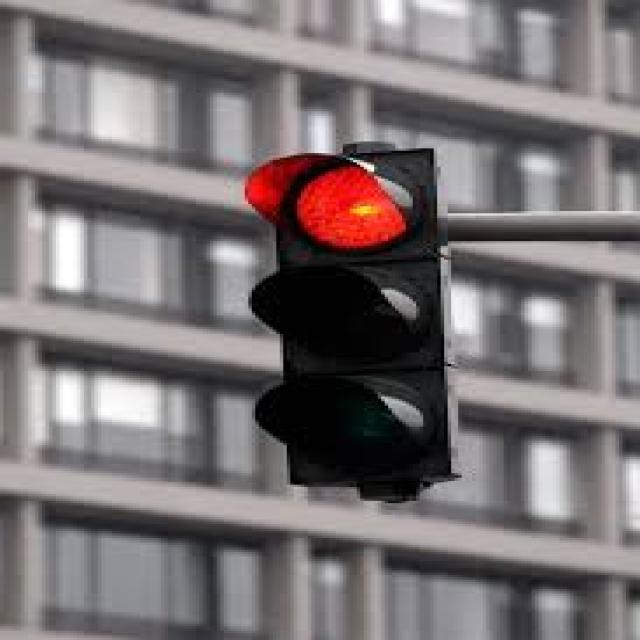red: (222, 146, 458, 508)
